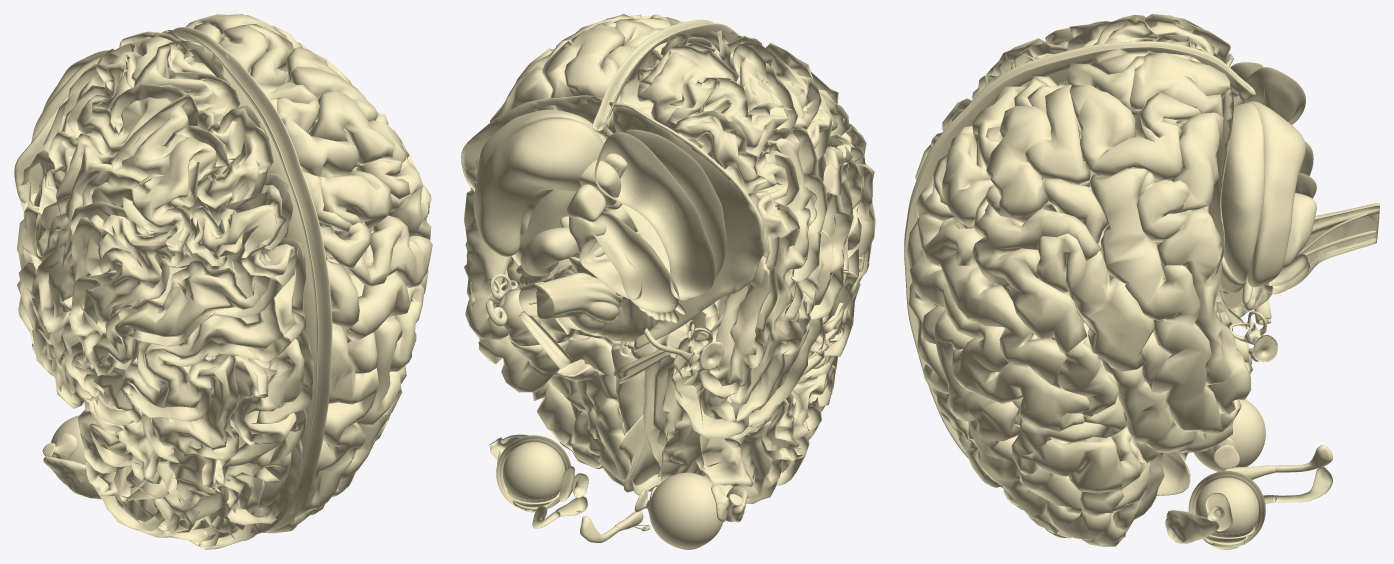
The model's file is head__nervous.440ff8f9cb.glb.
The picture shows the model from 3 angles, left to right: view 1: azimuth 30°, elevation 25°; view 2: azimuth 150°, elevation 25°; view 3: azimuth 270°, elevation 25°; orthographic projection.
Parts seen in each view (by area): view 1: Middle frontal gyrus.r, Falx cerebri, Angular gyrus.r, Superior frontal gyrus.r, Precentral gyrus.r, Postcentral gyrus.r, Superior parietal lobule.r, Supramarginal gyrus.r, Superior parietal lobule.l, Angular gyrus.l, Superior frontal gyrus.l, Middle temporal gyrus.r (+36 smaller); view 2: Inferior semilunar lobule.l, Inferior temporal gyrus.r, Middle temporal gyrus.r, Inferior semilunar lobule.r, Tentorium cerebelli.r, Orbital gyri.l, Orbital gyri.r, Occipital pole.r, Lateral occipital gyrus (Middle occipital gyrus*).r, Superior temporal gyrus (Lateral part).r, Falx cerebri, Occipital pole.l (+50 smaller); view 3: Middle temporal gyrus.l, Angular gyrus.l, Inferior temporal gyrus.l, Superior temporal gyrus (Lateral part).l, Supramarginal gyrus.l, Precentral gyrus.l, Falx cerebri, Middle frontal gyrus.l, Lateral occipital gyrus (Middle occipital gyrus*).l, Postcentral gyrus.l, Superior semilunar lobule.l, Inferior semilunar lobule.l (+36 smaller).
Boxes of the visible parts, box(x1,y1,x2,y2) form: Middle frontal gyrus.r: box(101, 354, 239, 547); Falx cerebri: box(164, 27, 332, 533); Angular gyrus.r: box(82, 93, 228, 252); Superior frontal gyrus.r: box(198, 300, 314, 549); Precentral gyrus.r: box(83, 299, 291, 425); Postcentral gyrus.r: box(83, 260, 283, 375); Superior parietal lobule.r: box(186, 108, 286, 265); Supramarginal gyrus.r: box(69, 201, 184, 336); Superior parietal lobule.l: box(277, 98, 392, 229); Angular gyrus.l: box(290, 66, 410, 199); Superior frontal gyrus.l: box(262, 323, 378, 533); Middle temporal gyrus.r: box(18, 133, 112, 376); Inferior semilunar lobule.l: box(473, 118, 603, 256); Inferior temporal gyrus.r: box(697, 139, 799, 404); Middle temporal gyrus.r: box(736, 125, 827, 421); Inferior semilunar lobule.r: box(594, 132, 715, 299); Tentorium cerebelli.r: box(609, 102, 764, 351); Orbital gyri.l: box(532, 334, 631, 481); Orbital gyri.r: box(660, 364, 798, 498); Occipital pole.r: box(620, 45, 736, 130); Lateral occipital gyrus (Middle occipital gyrus*).r: box(698, 44, 797, 156); Superior temporal gyrus (Lateral part).r: box(748, 191, 853, 426); Falx cerebri: box(592, 19, 736, 495); Occipital pole.l: box(542, 23, 625, 112); Middle temporal gyrus.l: box(1090, 168, 1223, 434); Angular gyrus.l: box(974, 84, 1107, 243); Inferior temporal gyrus.l: box(1137, 172, 1251, 414); Superior temporal gyrus (Lateral part).l: box(1071, 250, 1196, 453); Supramarginal gyrus.l: box(972, 203, 1101, 354); Precentral gyrus.l: box(910, 250, 1089, 431); Falx cerebri: box(904, 41, 1255, 495); Middle frontal gyrus.l: box(934, 309, 1110, 540); Lateral occipital gyrus (Middle occipital gyrus*).l: box(1069, 85, 1201, 181); Postcentral gyrus.l: box(917, 215, 1066, 389); Superior semilunar lobule.l: box(1221, 103, 1264, 282); Inferior semilunar lobule.l: box(1245, 101, 1305, 287).
Size of the model in its own units: 133 by 175 by 157.
